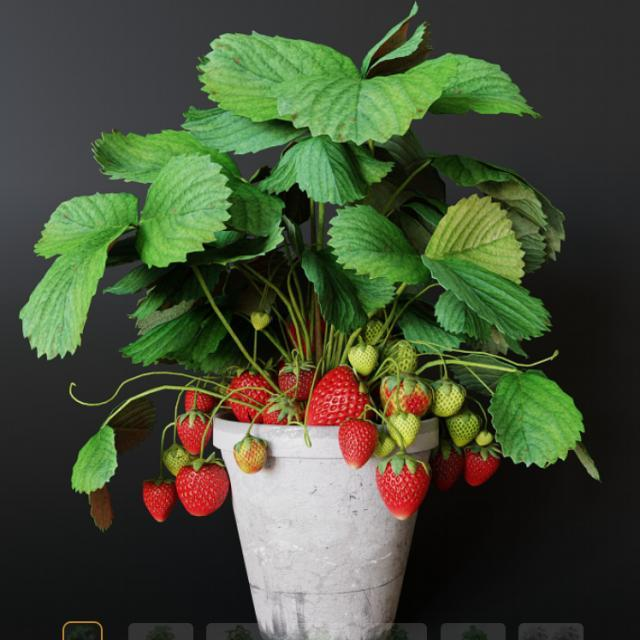ripe: (301, 358, 370, 432), (306, 362, 372, 437), (378, 452, 429, 524), (173, 456, 232, 516), (222, 363, 274, 427), (172, 410, 220, 464), (336, 414, 380, 470), (134, 474, 180, 526), (180, 382, 220, 424), (462, 445, 501, 487)
unripe: (420, 377, 466, 422), (340, 340, 379, 382), (447, 404, 477, 450), (386, 342, 419, 383), (238, 434, 270, 476), (384, 416, 421, 452)
